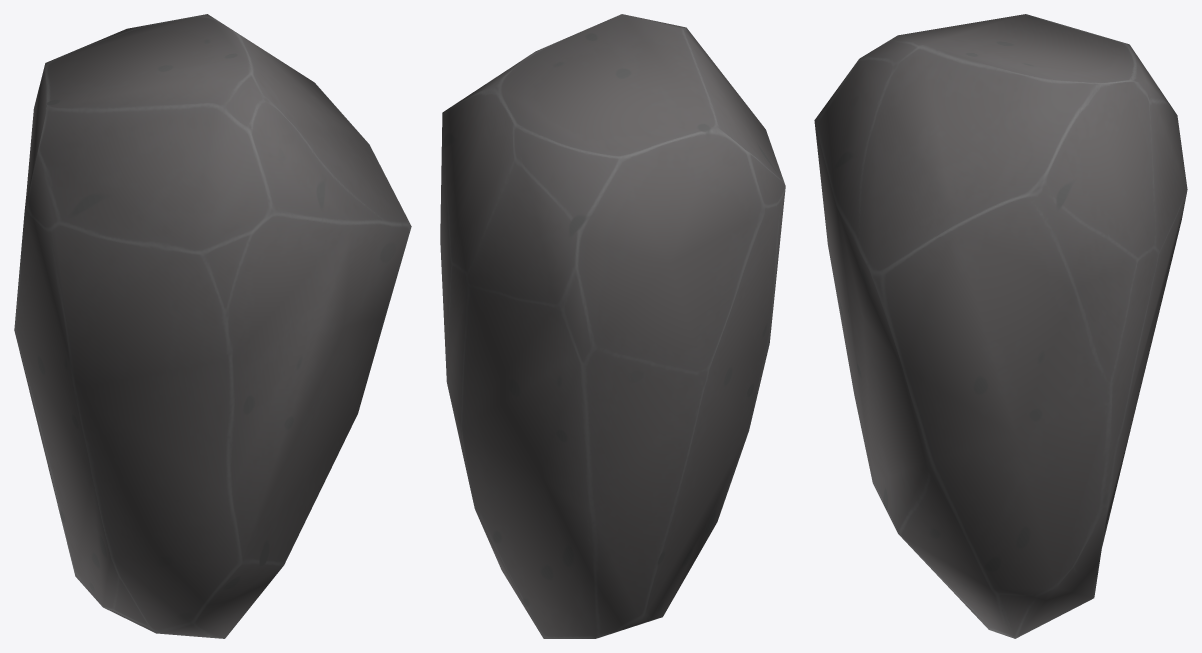
The model's file is rock02.glb.
3 views of the same model, side by side, from view 1: azimuth 30°, elevation 25°; view 2: azimuth 150°, elevation 25°; view 3: azimuth 270°, elevation 25° (orthographic). The views are drawn at different scales.
Visible parts, largest first — view 1: Rock02; view 2: Rock02; view 3: Rock02.
Part boxes in pixels (<box>): Rock02: <box>14,14,411,638</box>; Rock02: <box>440,14,785,638</box>; Rock02: <box>814,14,1187,638</box>.
Size of what is drawn, in the model's own units: 1.26 by 2.25 by 1.31.
1 material, 1 textured.
